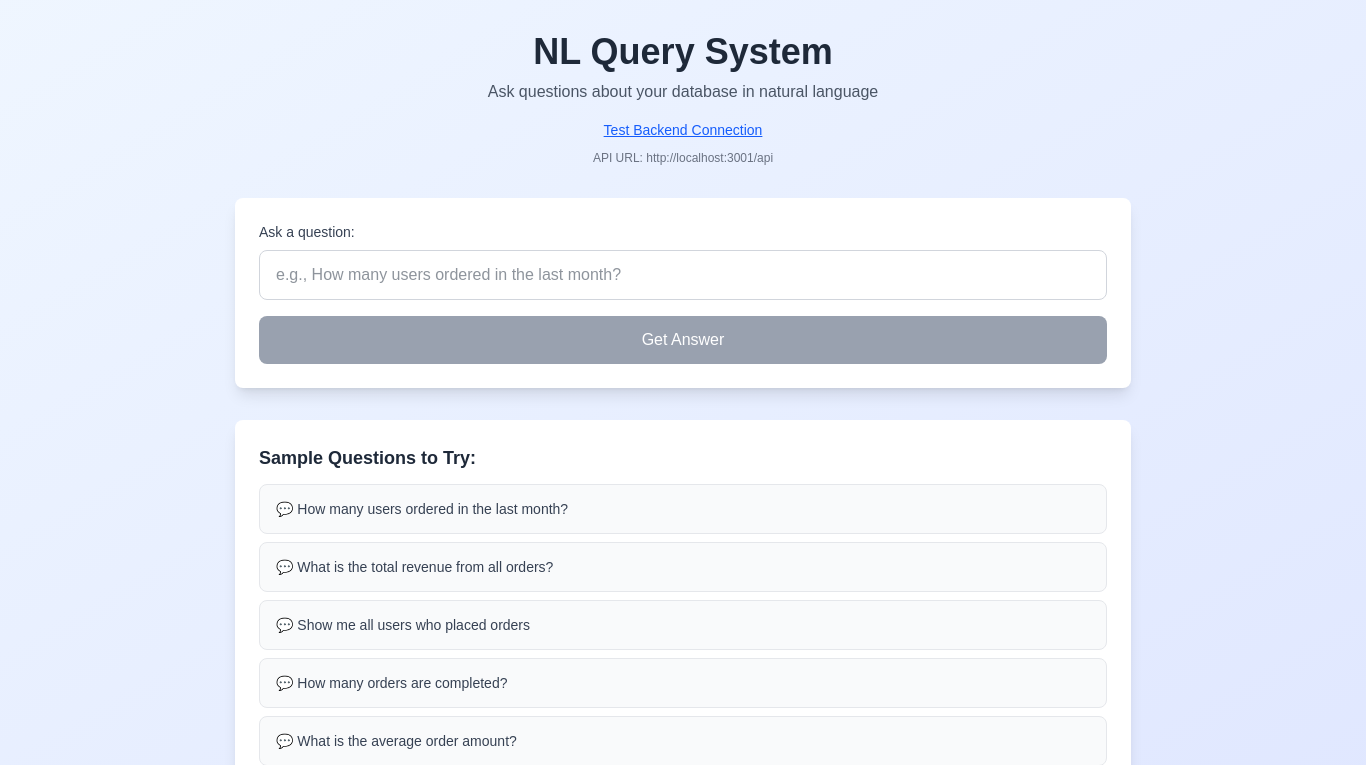
Test case: Home Page › displays error message on API failure
In the field with placeholder "e.g., How many users ordered in the last month?": (683, 275) [259, 250, 1107, 300], type "Test question"
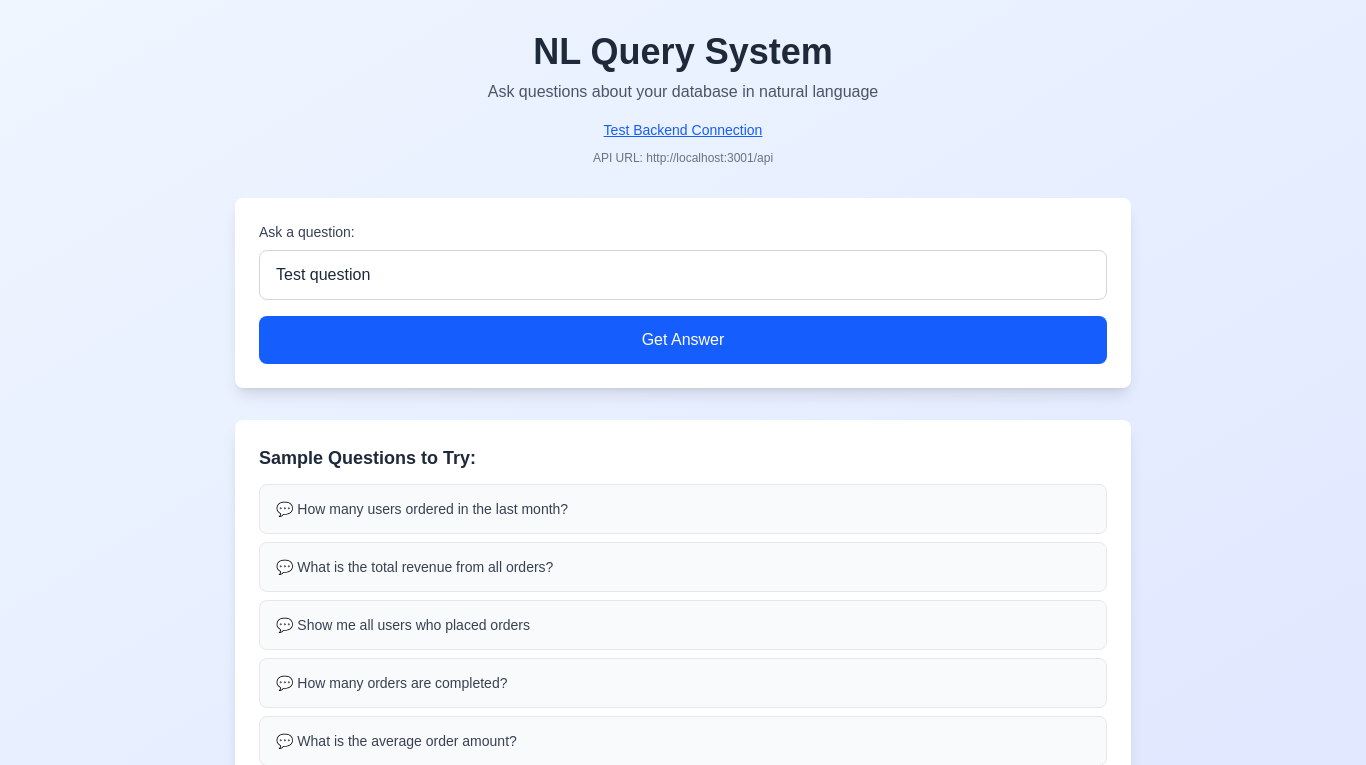
Click the button "Get Answer": (683, 340) [259, 316, 1107, 364]
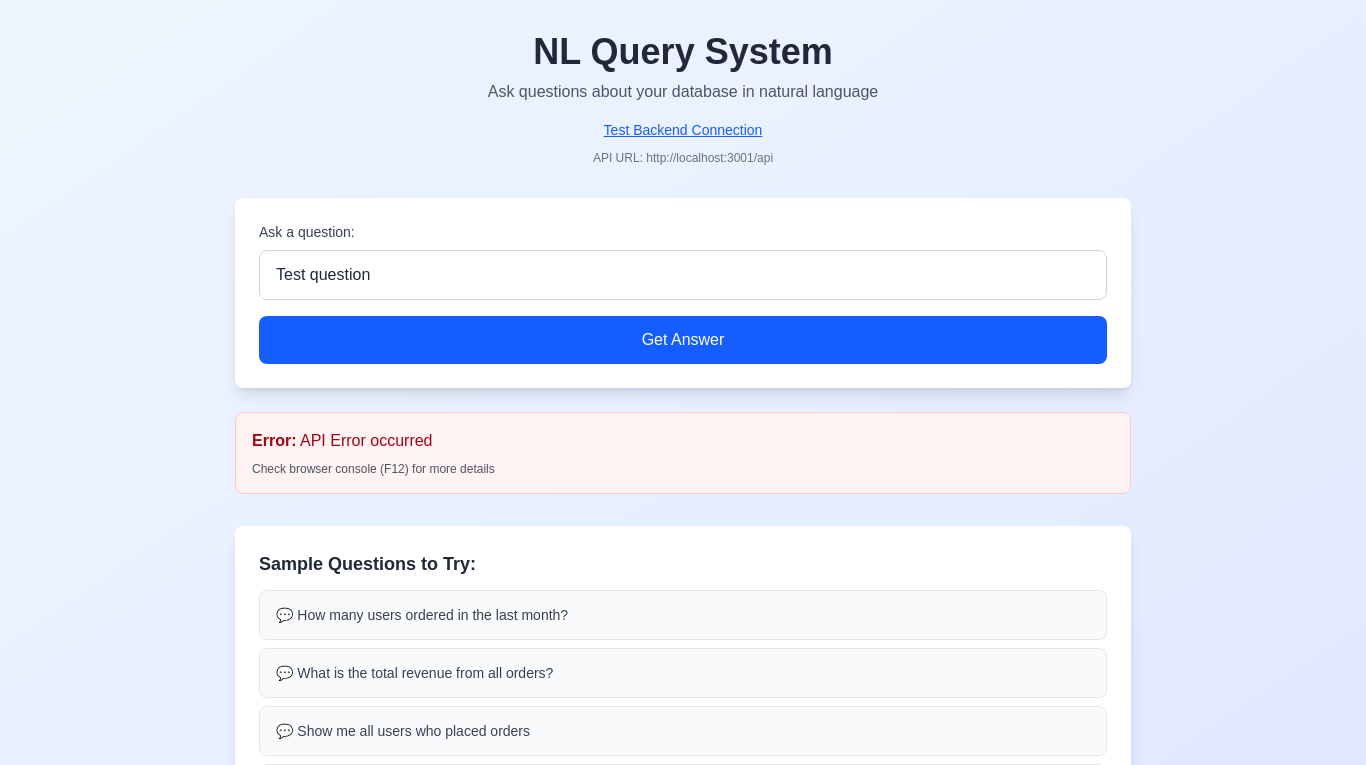
Expected: the text "Error:" is shown, [252, 432, 296, 449]
Expected: the text "Error: API Error occurred" is shown, [252, 432, 432, 449]
